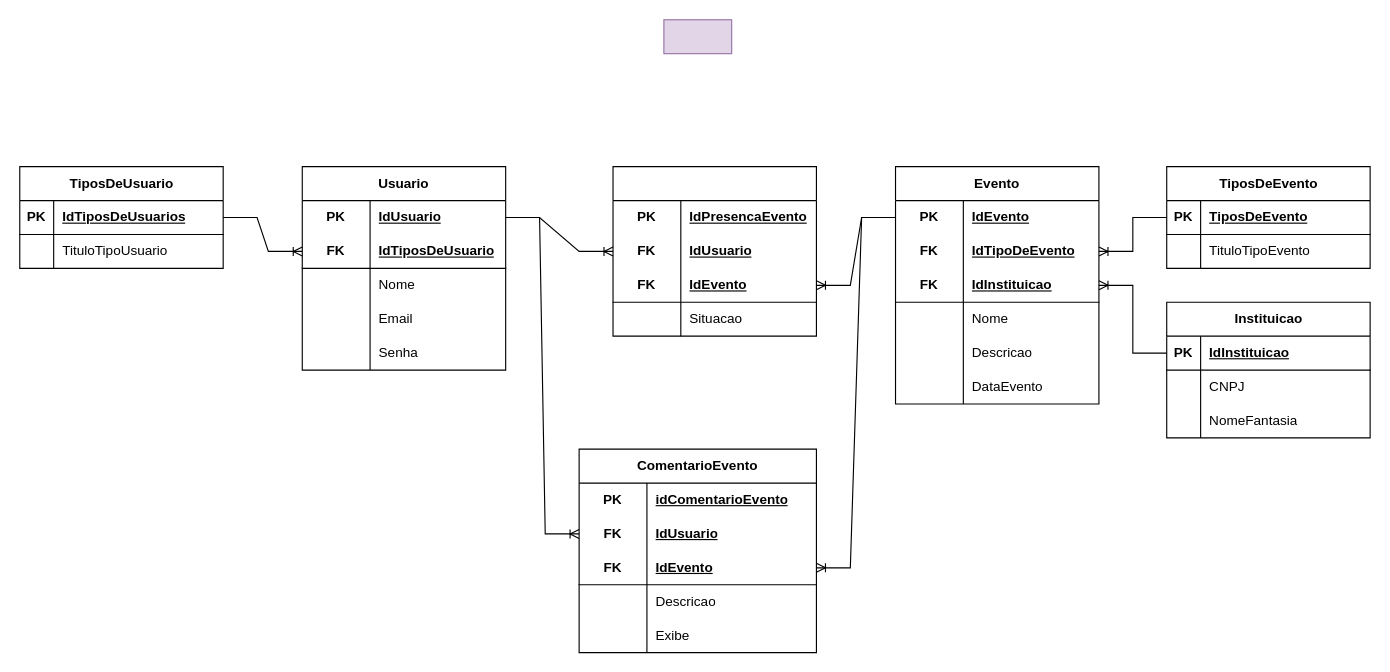
Some shapes in this 1390 by 672 pixel diagram are drawn without their labels. Here are the shapes that lost their labels. From the top down, the box of each, then its label:
(663, 19, 732, 54): Lógico
(612, 166, 816, 336): PresencasEvento
